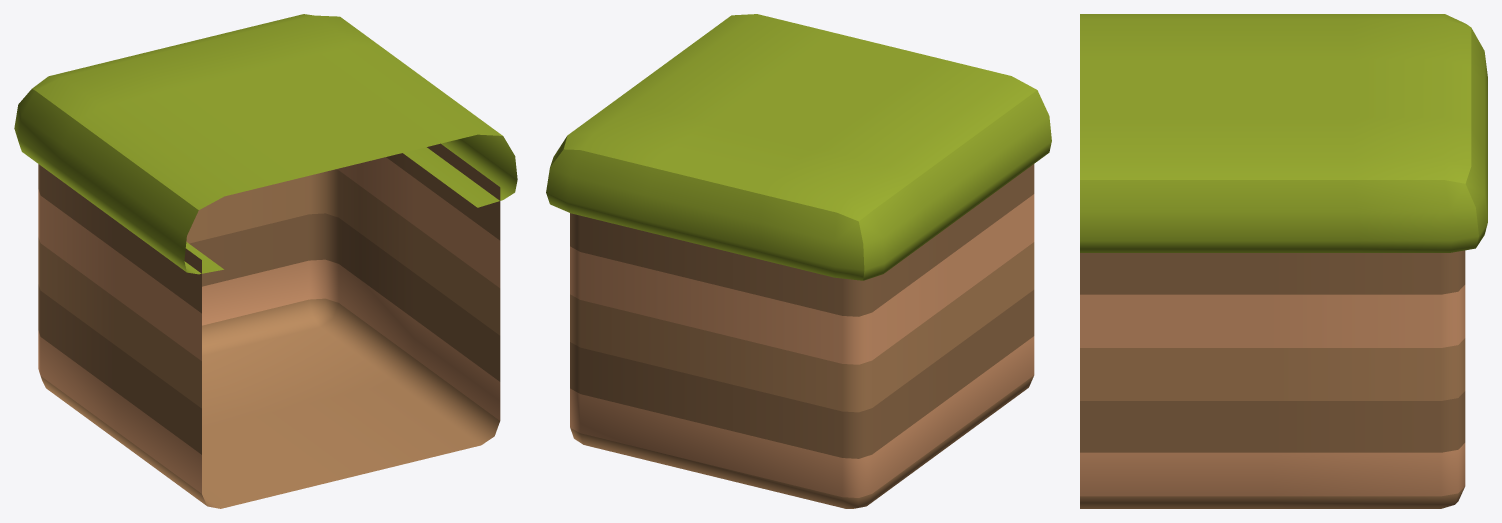
File: Cube_Grass_1x1End_002.gltf
3 views of the same model, side by side, from view 1: azimuth 30°, elevation 25°; view 2: azimuth 150°, elevation 25°; view 3: azimuth 270°, elevation 25° (orthographic). The views are drawn at different scales.
Visible parts, largest first — view 1: Cube_Grass_1x1End.002; view 2: Cube_Grass_1x1End.002; view 3: Cube_Grass_1x1End.002.
Boxes of the visible parts, box(x1,y1,x2,y2) form: Cube_Grass_1x1End.002: box(14, 14, 517, 508); Cube_Grass_1x1End.002: box(546, 14, 1051, 508); Cube_Grass_1x1End.002: box(1080, 14, 1487, 508).
Bounding box in the file's own units: 2.23 × 2 × 2.12.
